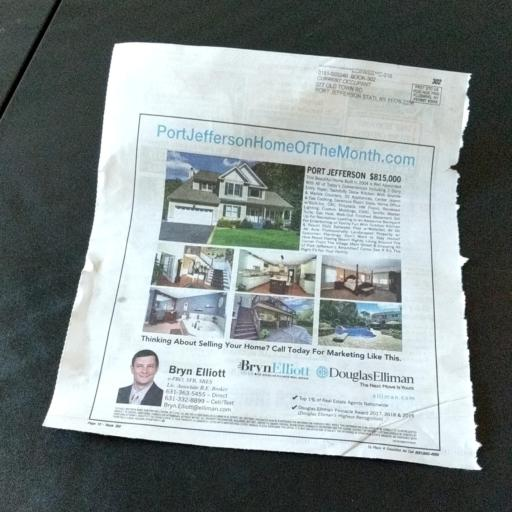paper: (22, 8, 509, 488)
